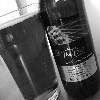beer: (1, 3, 42, 93)
